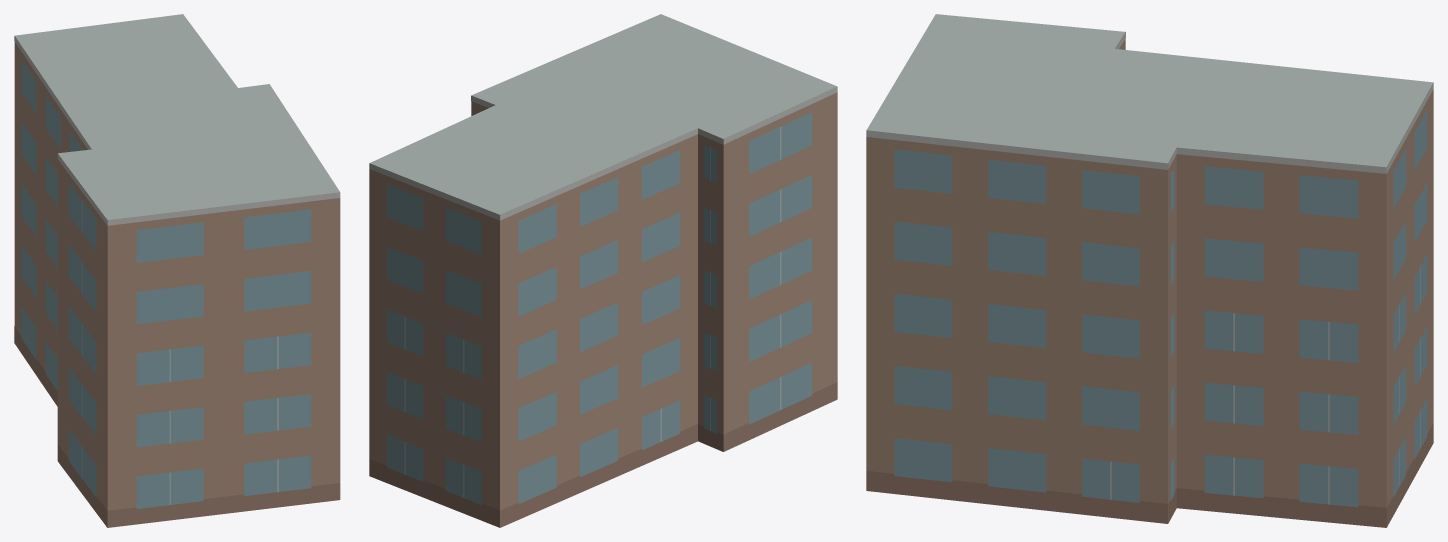
The model's file is survey-upis-32754749.glb.
The picture shows the model from 3 angles, left to right: view 1: azimuth 30°, elevation 25°; view 2: azimuth 150°, elevation 25°; view 3: azimuth 270°, elevation 25°; orthographic projection. The views are drawn at different scales.
Visible parts, largest first — view 1: survey-upis-32754749.tmp; view 2: survey-upis-32754749.tmp; view 3: survey-upis-32754749.tmp.
Part boxes in pixels (left/top/right/bottom): survey-upis-32754749.tmp: left=14, top=14, right=340, bottom=527; survey-upis-32754749.tmp: left=369, top=14, right=837, bottom=527; survey-upis-32754749.tmp: left=866, top=14, right=1433, bottom=527.
Size of the model in its own units: 12.13 by 13.3 by 18.97.
